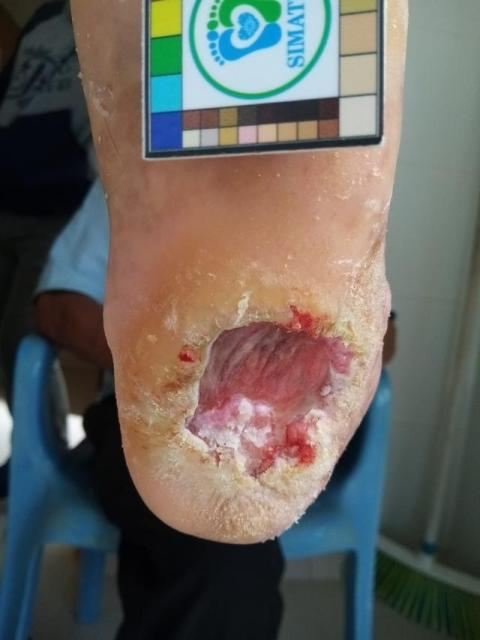wound: (177, 300, 366, 483), (159, 373, 190, 392)
